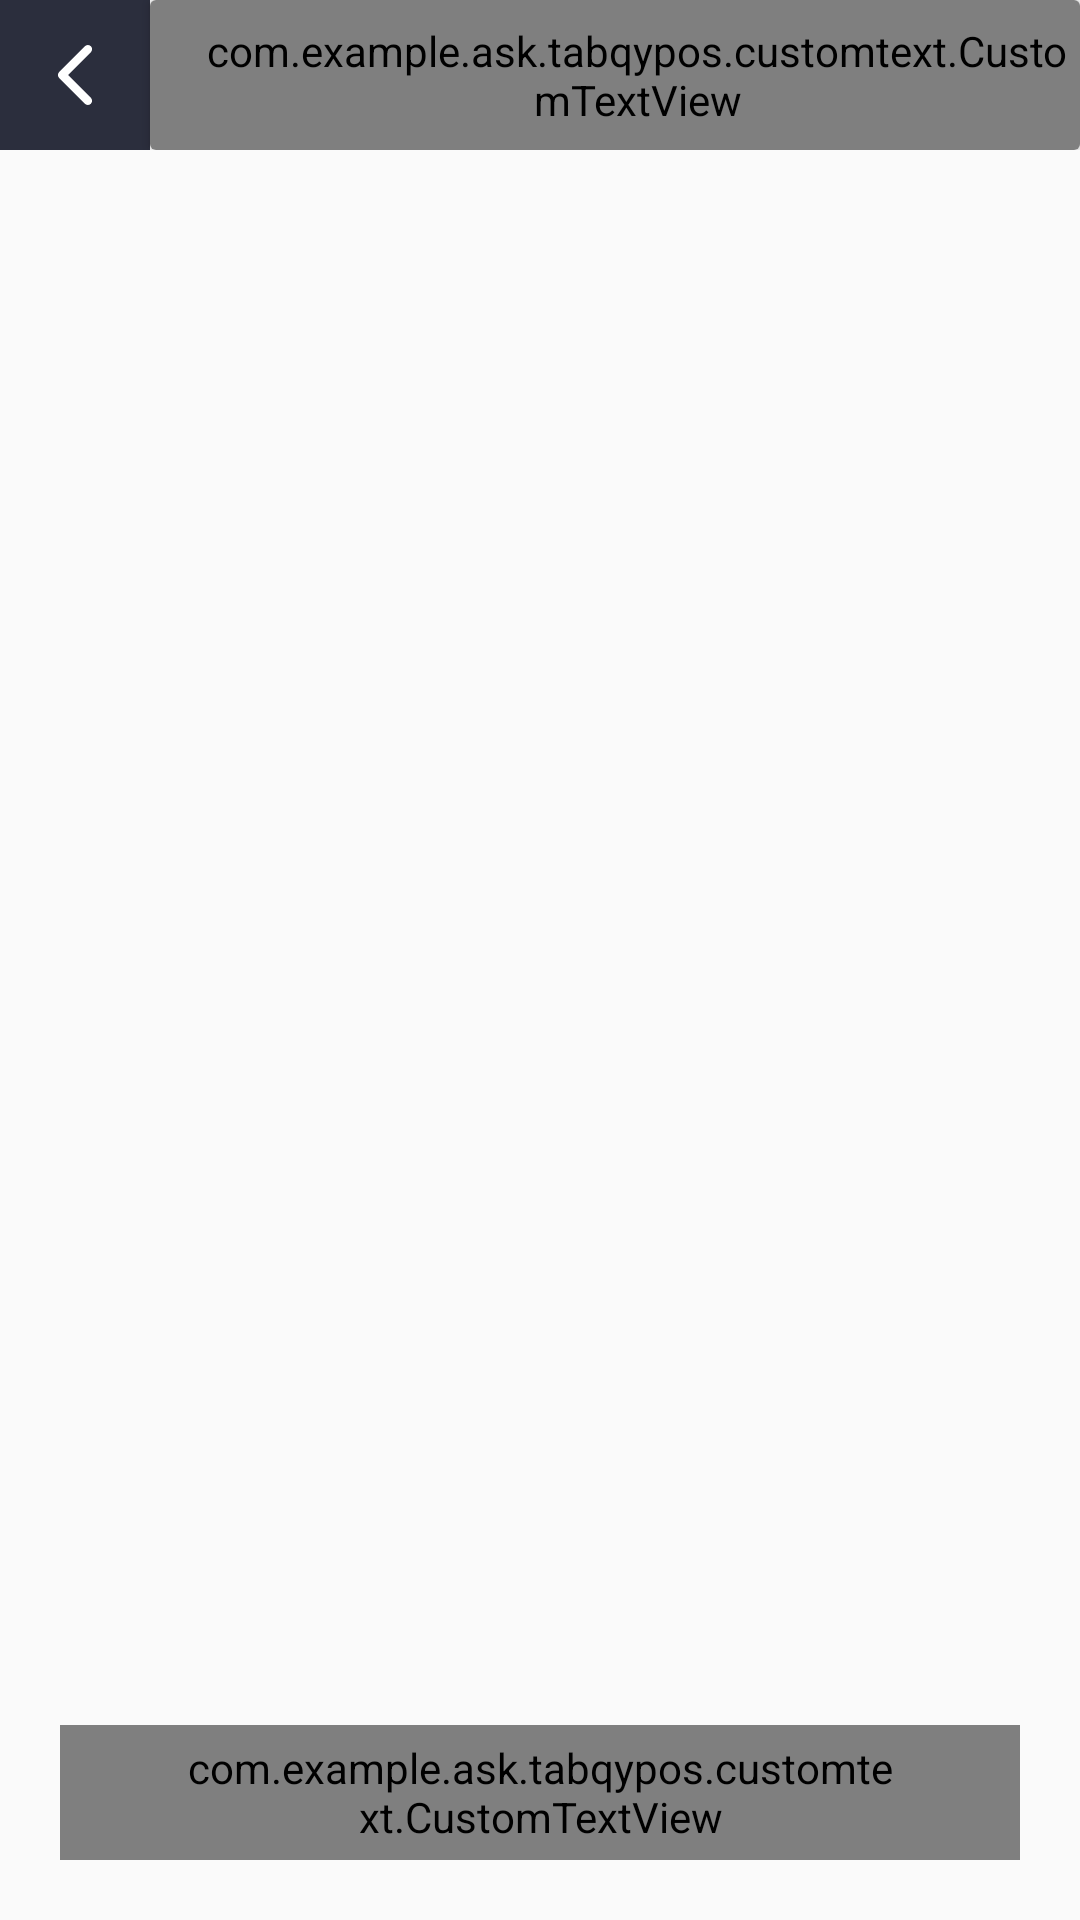

Locate icon controls on the screen. Image size 1080px x 1920px, boxes as {"x1": x1, "y1": y1, "x2": x2, "y2": y2}.
arrow left: {"x1": 58, "y1": 45, "x2": 92, "y2": 105}
